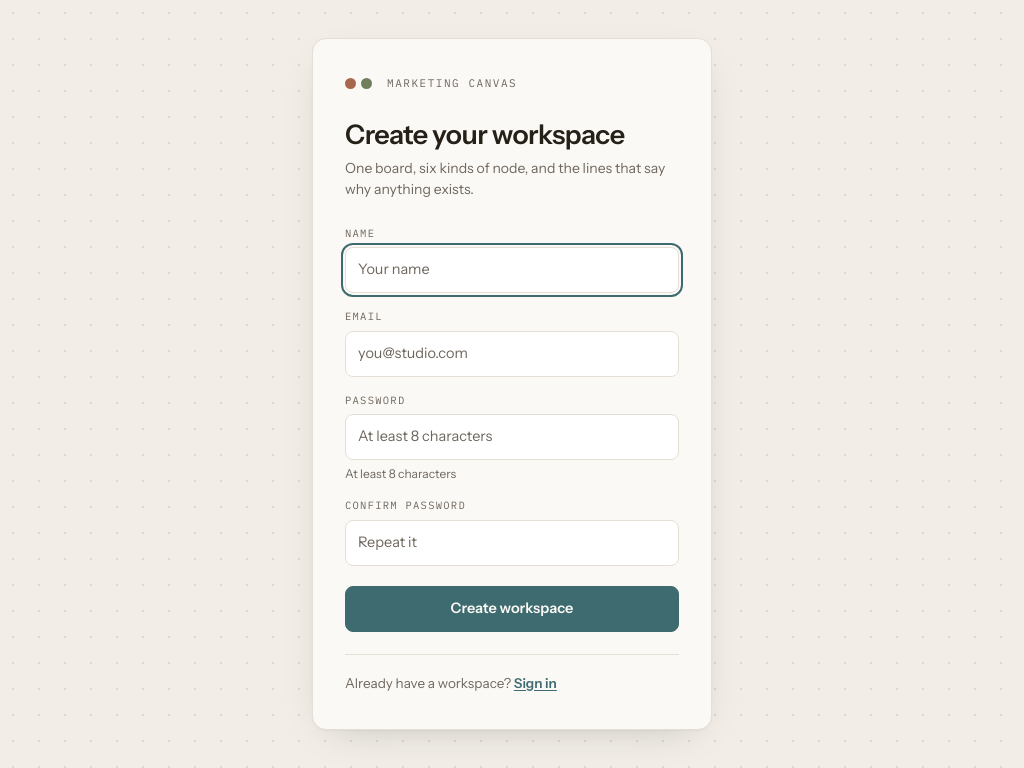
Test: Sign up Retry › still clears the passwords when the address is already registered, as the state matrix says
Expected: the heading "Create your workspace" is shown, [345, 118, 624, 151]
Type "Ada" into the field labelled "Name". click: (512, 270)
box: [345, 247, 679, 293]
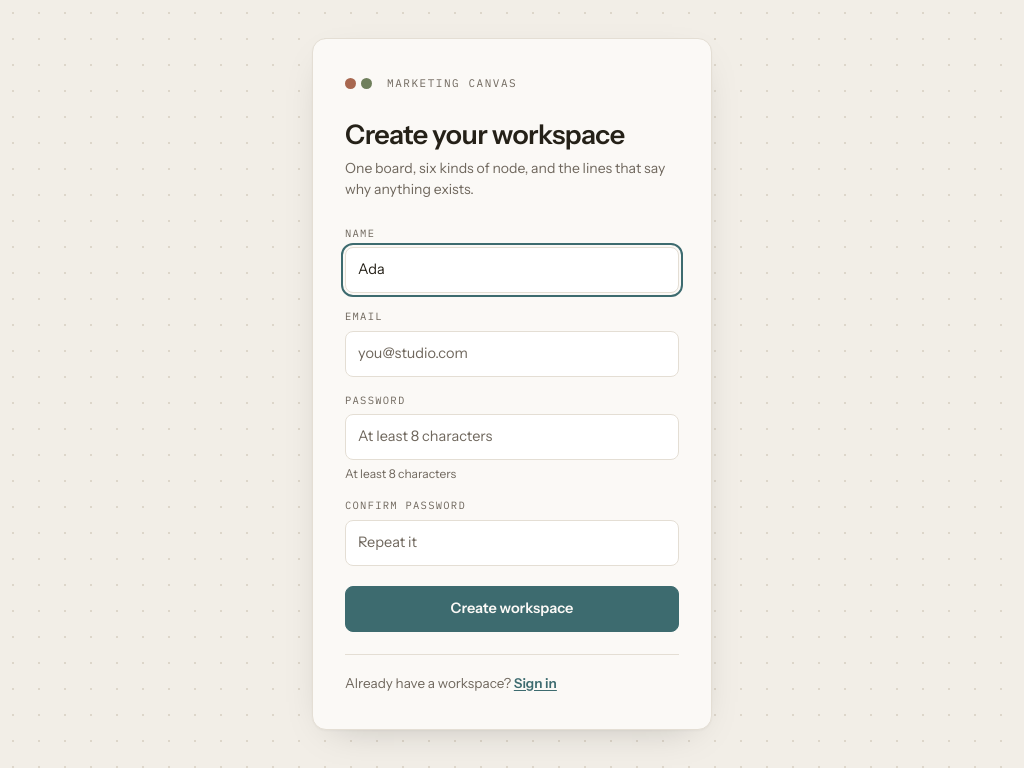
Type "taken@example.com" into the field labelled "Email". click: (512, 354)
box: [345, 331, 679, 377]
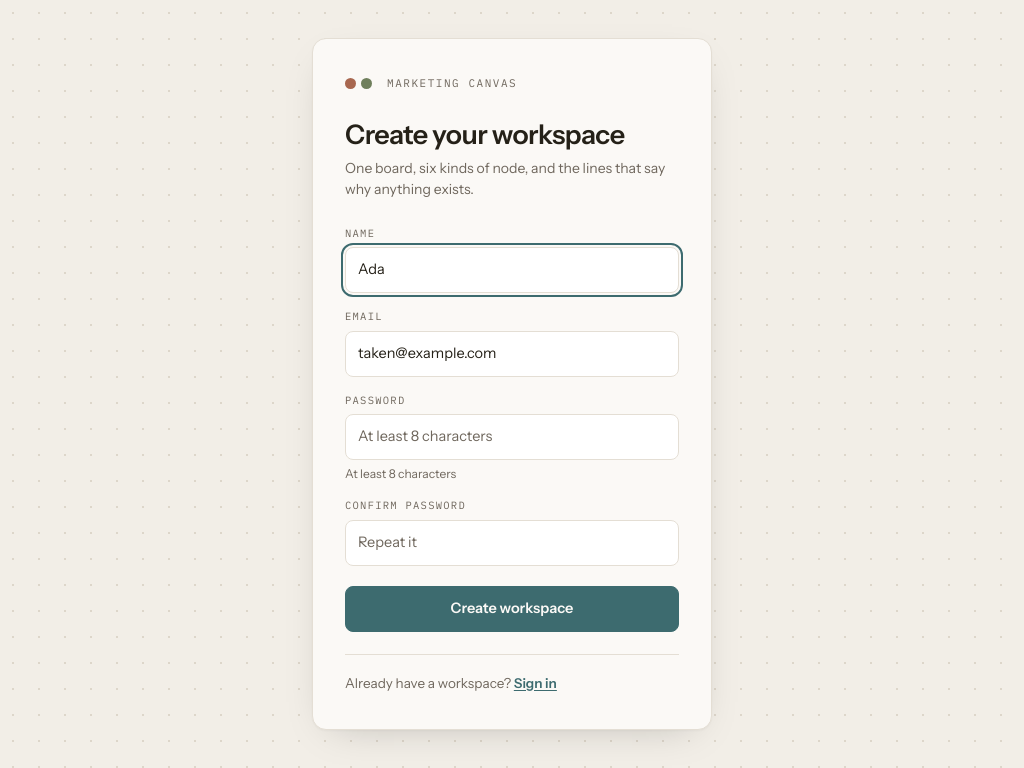
Type "12345678" into the password field labelled "Password". click: (512, 437)
box: [345, 414, 679, 460]
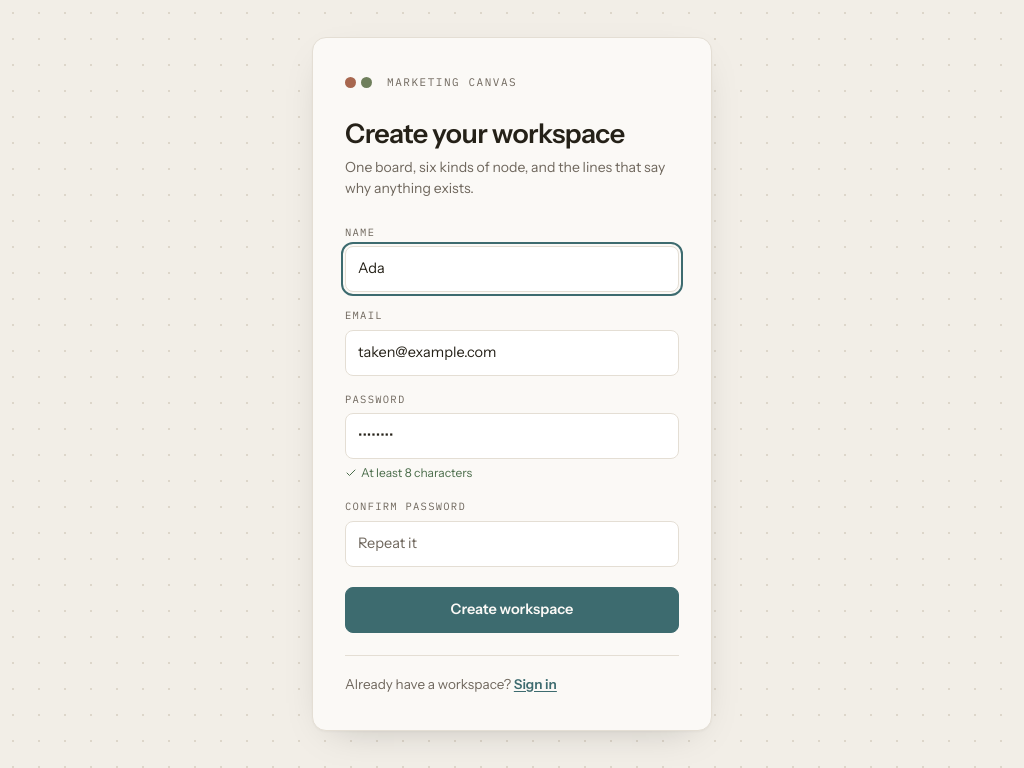
Type "12345678" into the password field labelled "Confirm password". click: (512, 544)
box: [345, 521, 679, 567]
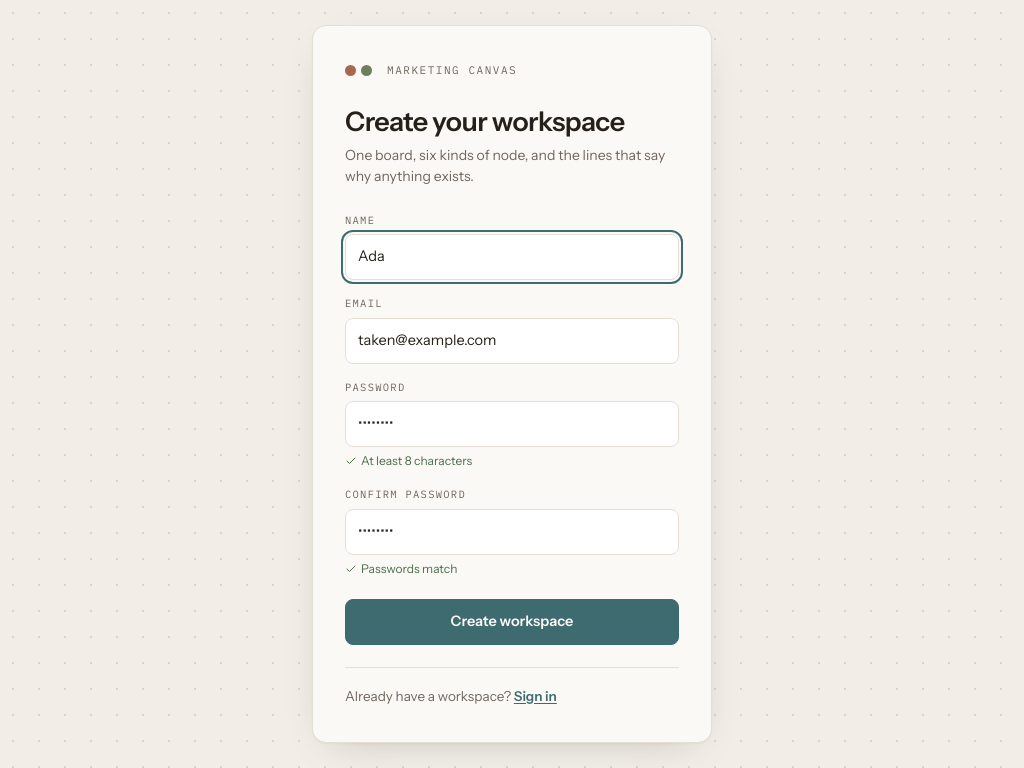
Click the button "Create workspace". click: click(512, 622)
box: [345, 598, 679, 644]
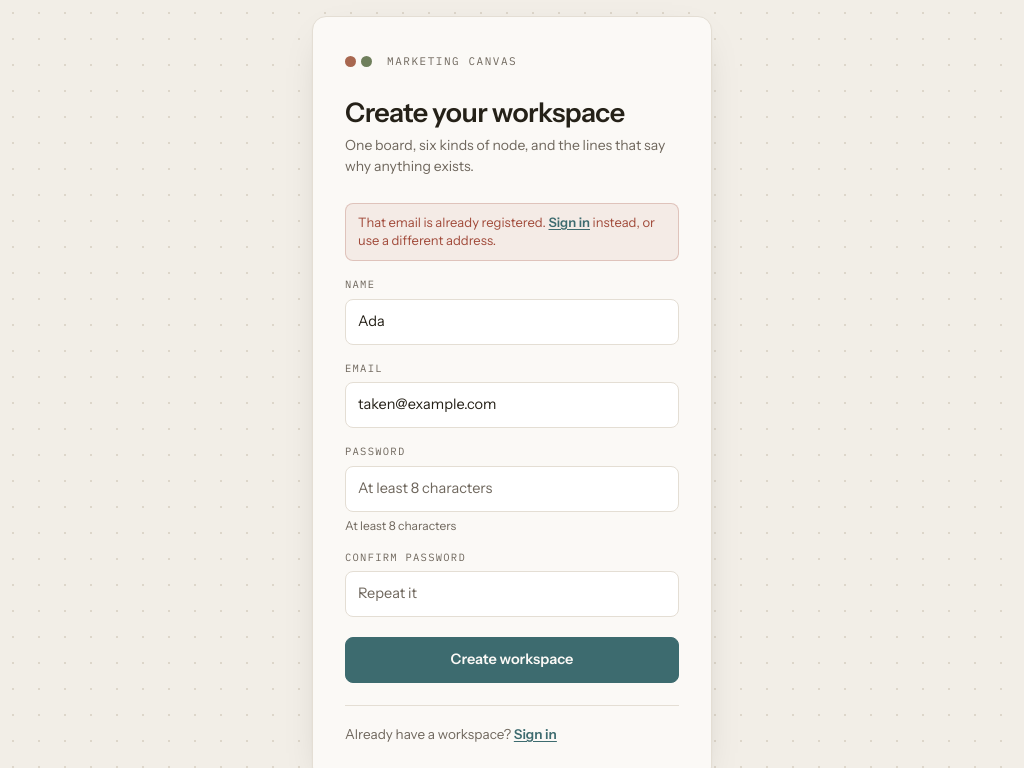
Expected: the text "That email is already registered. Sign in instead, or use a different address." is shown, [345, 203, 679, 261]
Expected: the password field labelled "Password" is empty, [345, 466, 679, 512]
Expected: the password field labelled "Confirm password" is empty, [345, 571, 679, 617]
